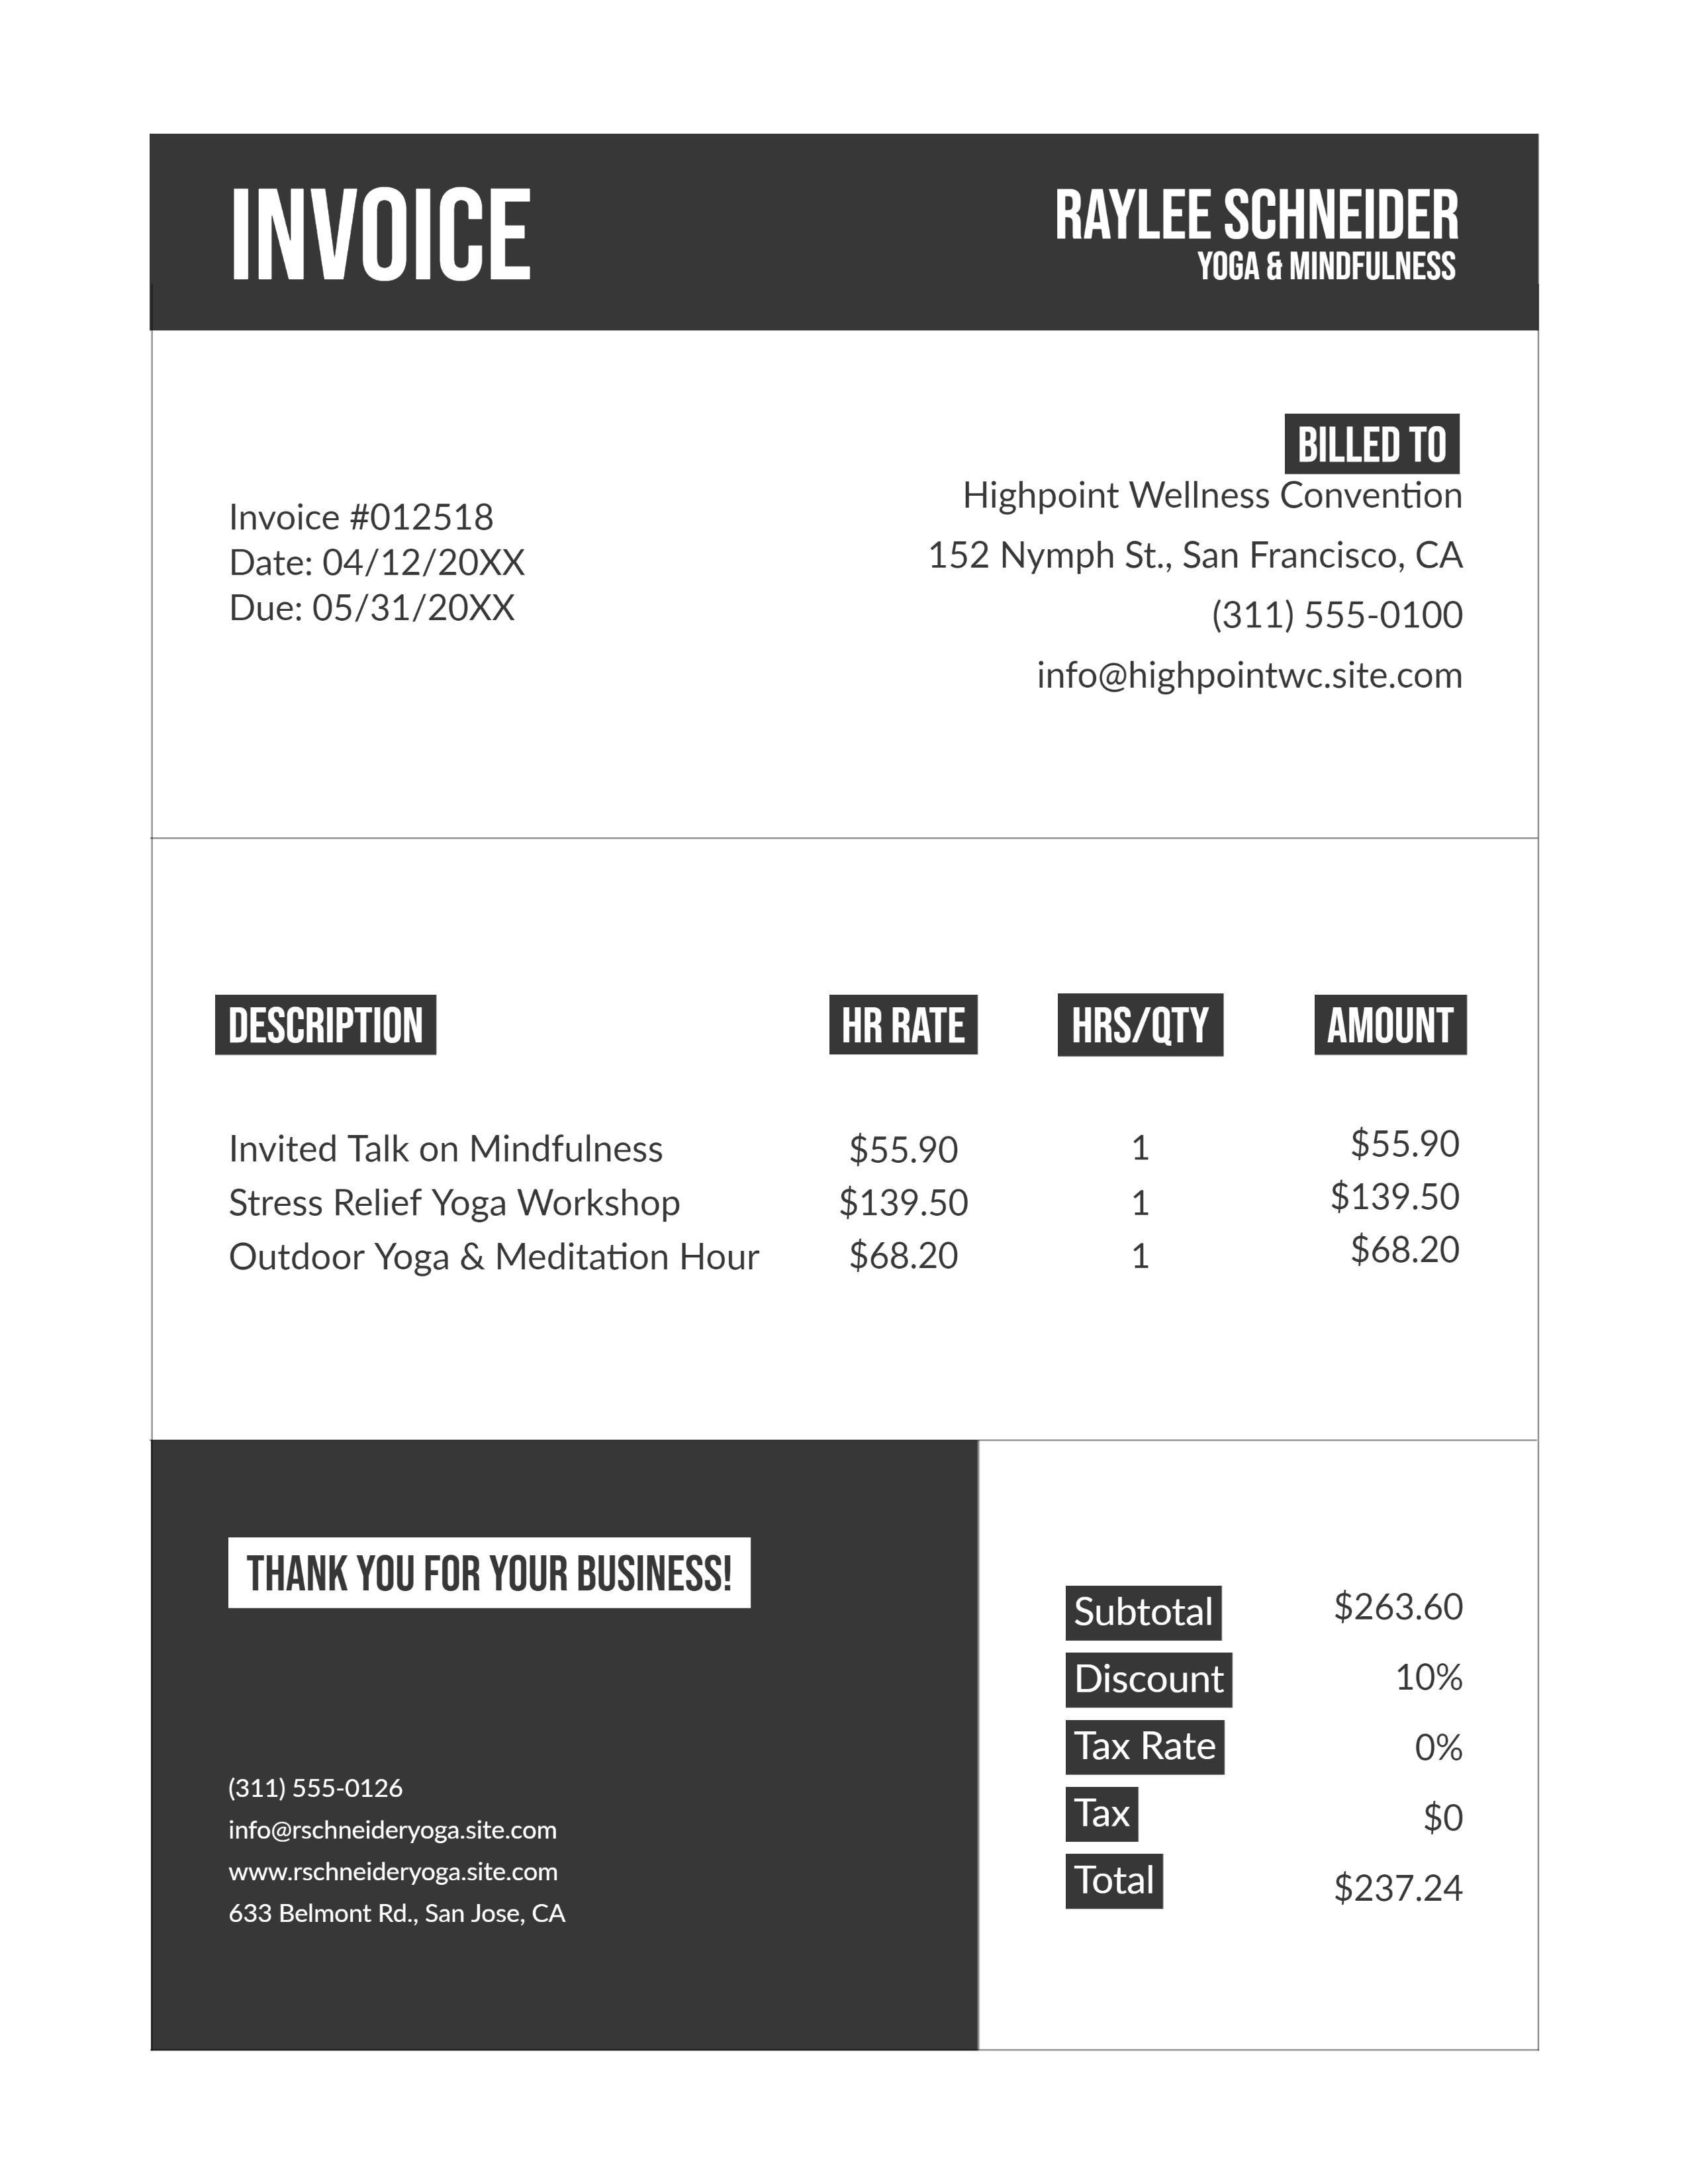ROI: (213, 986, 1470, 1285), (904, 400, 1474, 701), (1066, 1585, 1470, 1919), (197, 470, 551, 646), (1038, 165, 1505, 298)
